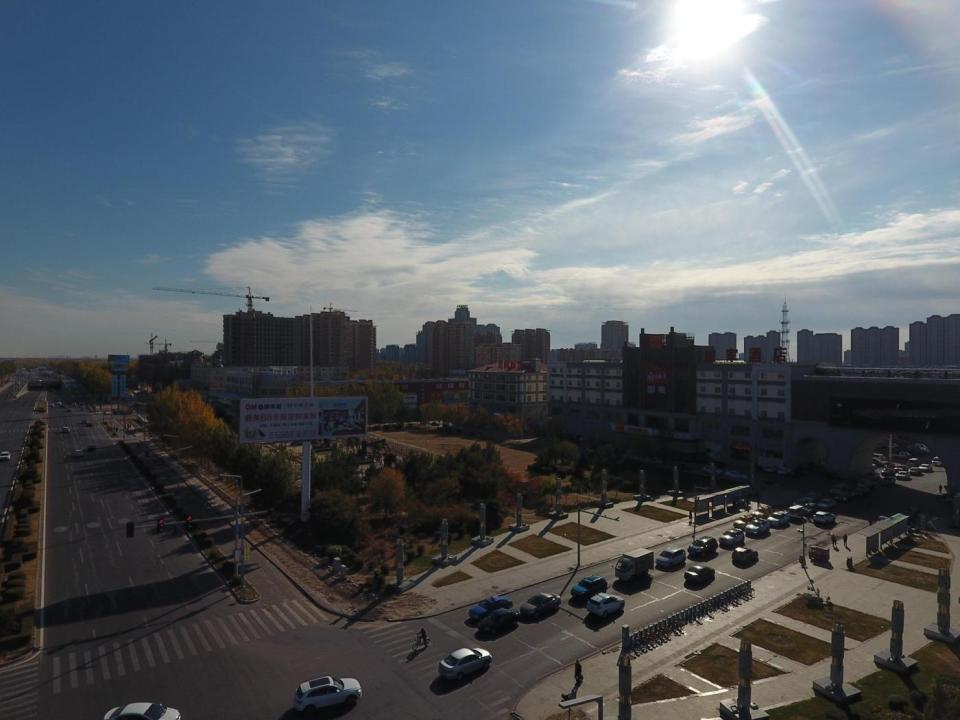car: (294, 677, 361, 715), (438, 648, 493, 680), (103, 703, 180, 718), (477, 608, 521, 634), (468, 595, 513, 619), (520, 592, 561, 618), (586, 593, 625, 619), (570, 576, 607, 600), (655, 547, 686, 569), (688, 536, 718, 557), (684, 565, 715, 584), (732, 546, 758, 564), (719, 528, 745, 546), (745, 519, 770, 535), (768, 510, 790, 525), (733, 514, 754, 529), (813, 511, 836, 524), (724, 470, 749, 481), (829, 484, 852, 495), (752, 507, 774, 518), (835, 490, 855, 502), (817, 498, 835, 510), (803, 492, 822, 503), (851, 486, 871, 496), (702, 466, 724, 475), (792, 498, 810, 508), (802, 503, 818, 514), (820, 472, 842, 480), (867, 453, 886, 462), (674, 462, 692, 471), (880, 476, 896, 485), (860, 460, 876, 469), (765, 464, 781, 473), (645, 457, 663, 465), (867, 458, 884, 466), (709, 460, 726, 468), (895, 464, 908, 474), (916, 464, 932, 472), (790, 470, 806, 478), (908, 467, 922, 476), (895, 471, 910, 479), (881, 468, 896, 476), (748, 464, 763, 472), (585, 446, 600, 454), (914, 447, 931, 454), (866, 472, 880, 479), (696, 456, 710, 463), (0, 452, 12, 460), (777, 468, 792, 474), (888, 442, 899, 449), (868, 518, 874, 530), (74, 450, 83, 457), (843, 534, 848, 546), (87, 444, 96, 450), (442, 424, 454, 428), (128, 401, 139, 405), (62, 427, 70, 432), (420, 420, 430, 424), (430, 422, 439, 426), (86, 422, 94, 426), (82, 419, 88, 423), (57, 398, 62, 402), (80, 406, 85, 410), (67, 408, 72, 412), (50, 402, 54, 406), (57, 401, 61, 405), (80, 402, 84, 406), (5, 393, 10, 396), (60, 404, 65, 407), (72, 403, 76, 405)
truck: (614, 547, 654, 581), (902, 446, 924, 455), (906, 443, 928, 452), (890, 450, 911, 459), (112, 407, 126, 415), (118, 408, 132, 415)
van: (786, 505, 804, 519), (931, 455, 951, 466), (906, 458, 919, 469), (856, 479, 871, 488)
